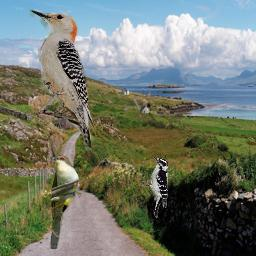Cuckoo: (48, 155, 80, 249)
Woodpecker: (29, 3, 100, 157), (140, 156, 169, 218)
